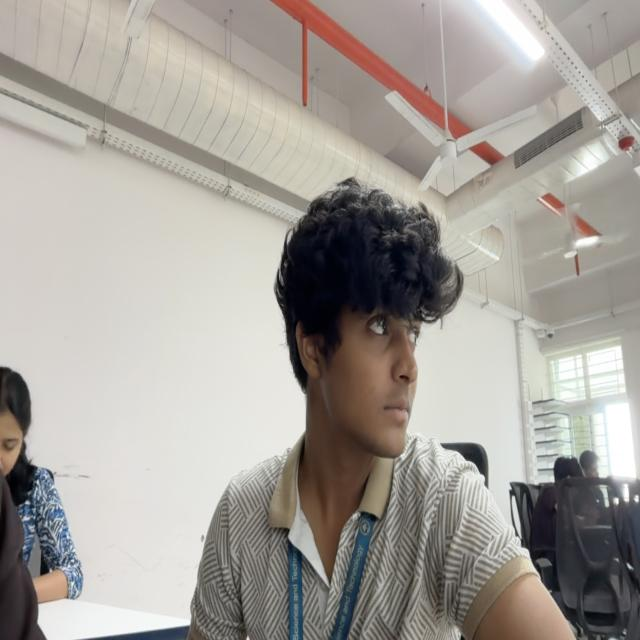kshitij: (277, 182, 464, 461)
